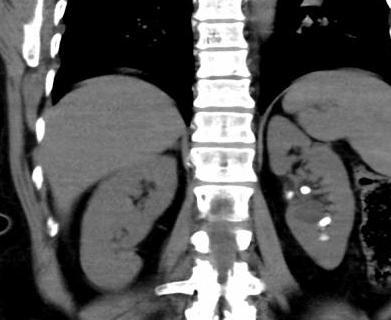Tas_Var: (316, 215, 335, 228), (296, 185, 314, 195), (318, 233, 332, 244), (287, 192, 294, 196), (287, 194, 292, 198)
